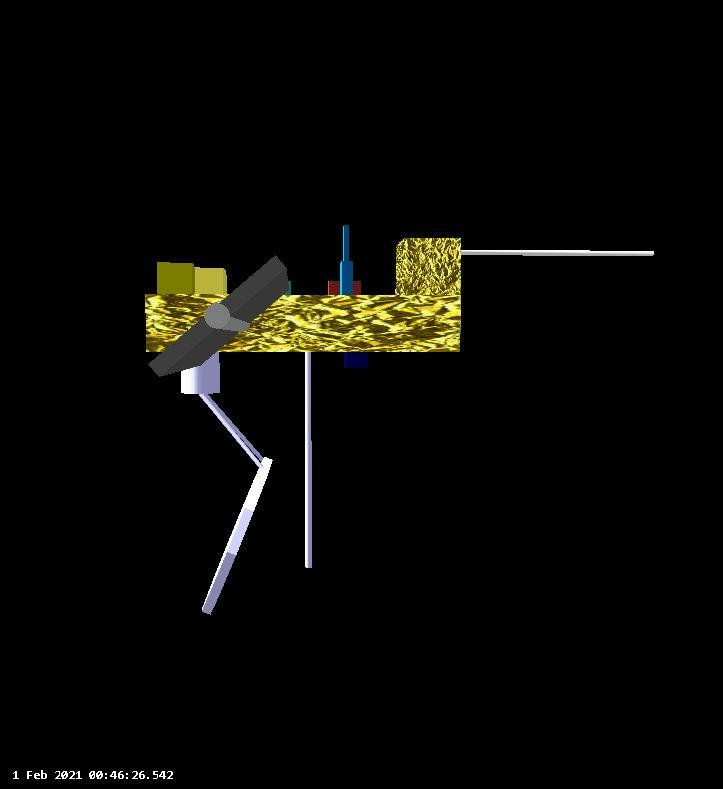antenna: (199, 445, 277, 618), (295, 346, 323, 571), (454, 240, 660, 266)
body: (142, 233, 474, 363)
solar: (148, 250, 294, 379)
